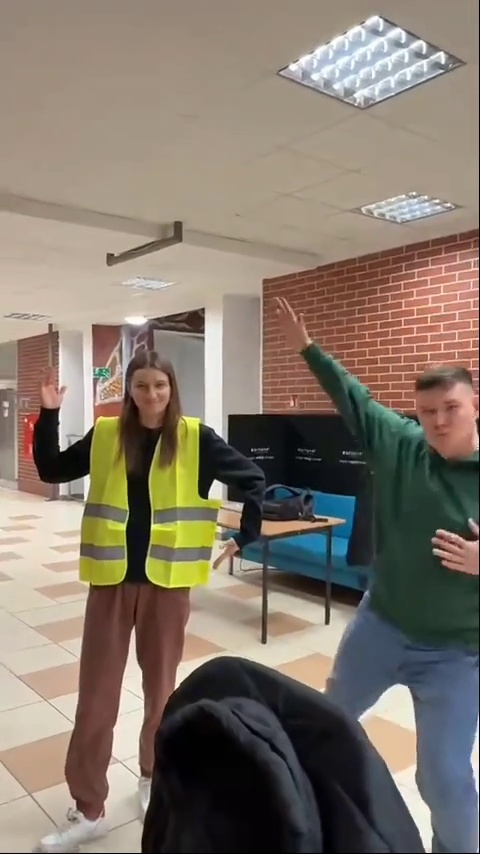no vest: (305, 333, 480, 848)
vest: (26, 331, 269, 829)
